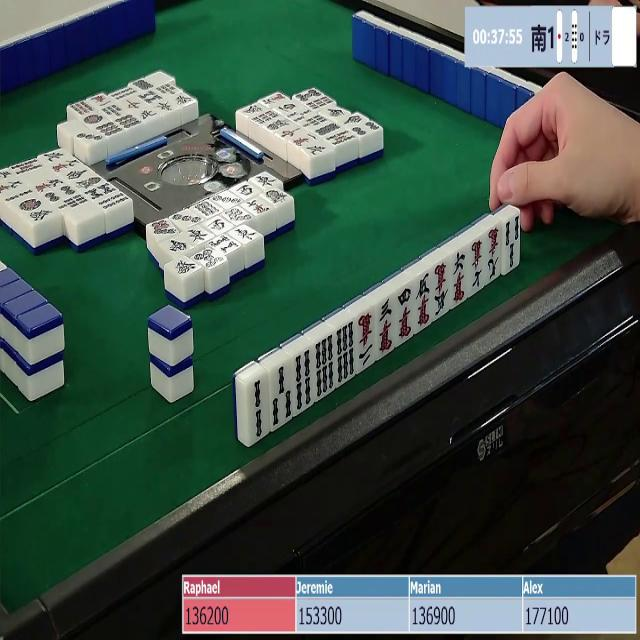m2: (356, 310, 377, 370)
m3: (373, 296, 399, 356)
m4: (393, 284, 418, 342)
m5: (413, 271, 432, 331), (433, 258, 449, 316)
m6: (453, 248, 466, 306)
m7: (468, 237, 484, 294)
m9: (487, 224, 500, 283)
s2: (247, 376, 269, 444)
s3: (269, 364, 294, 431), (502, 208, 521, 272)
s4: (291, 349, 314, 414)
s5: (10, 160, 44, 177)
s6: (313, 334, 335, 399), (335, 321, 355, 384)
s8: (78, 180, 117, 200)
